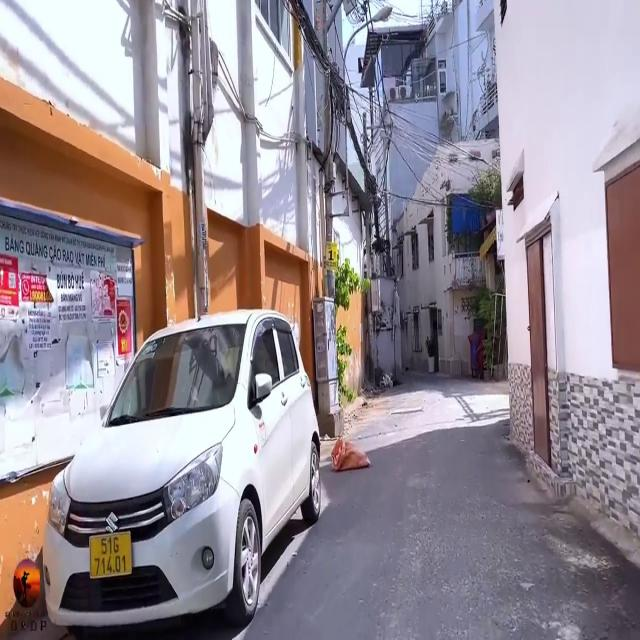bien_vang: (85, 526, 138, 579)
